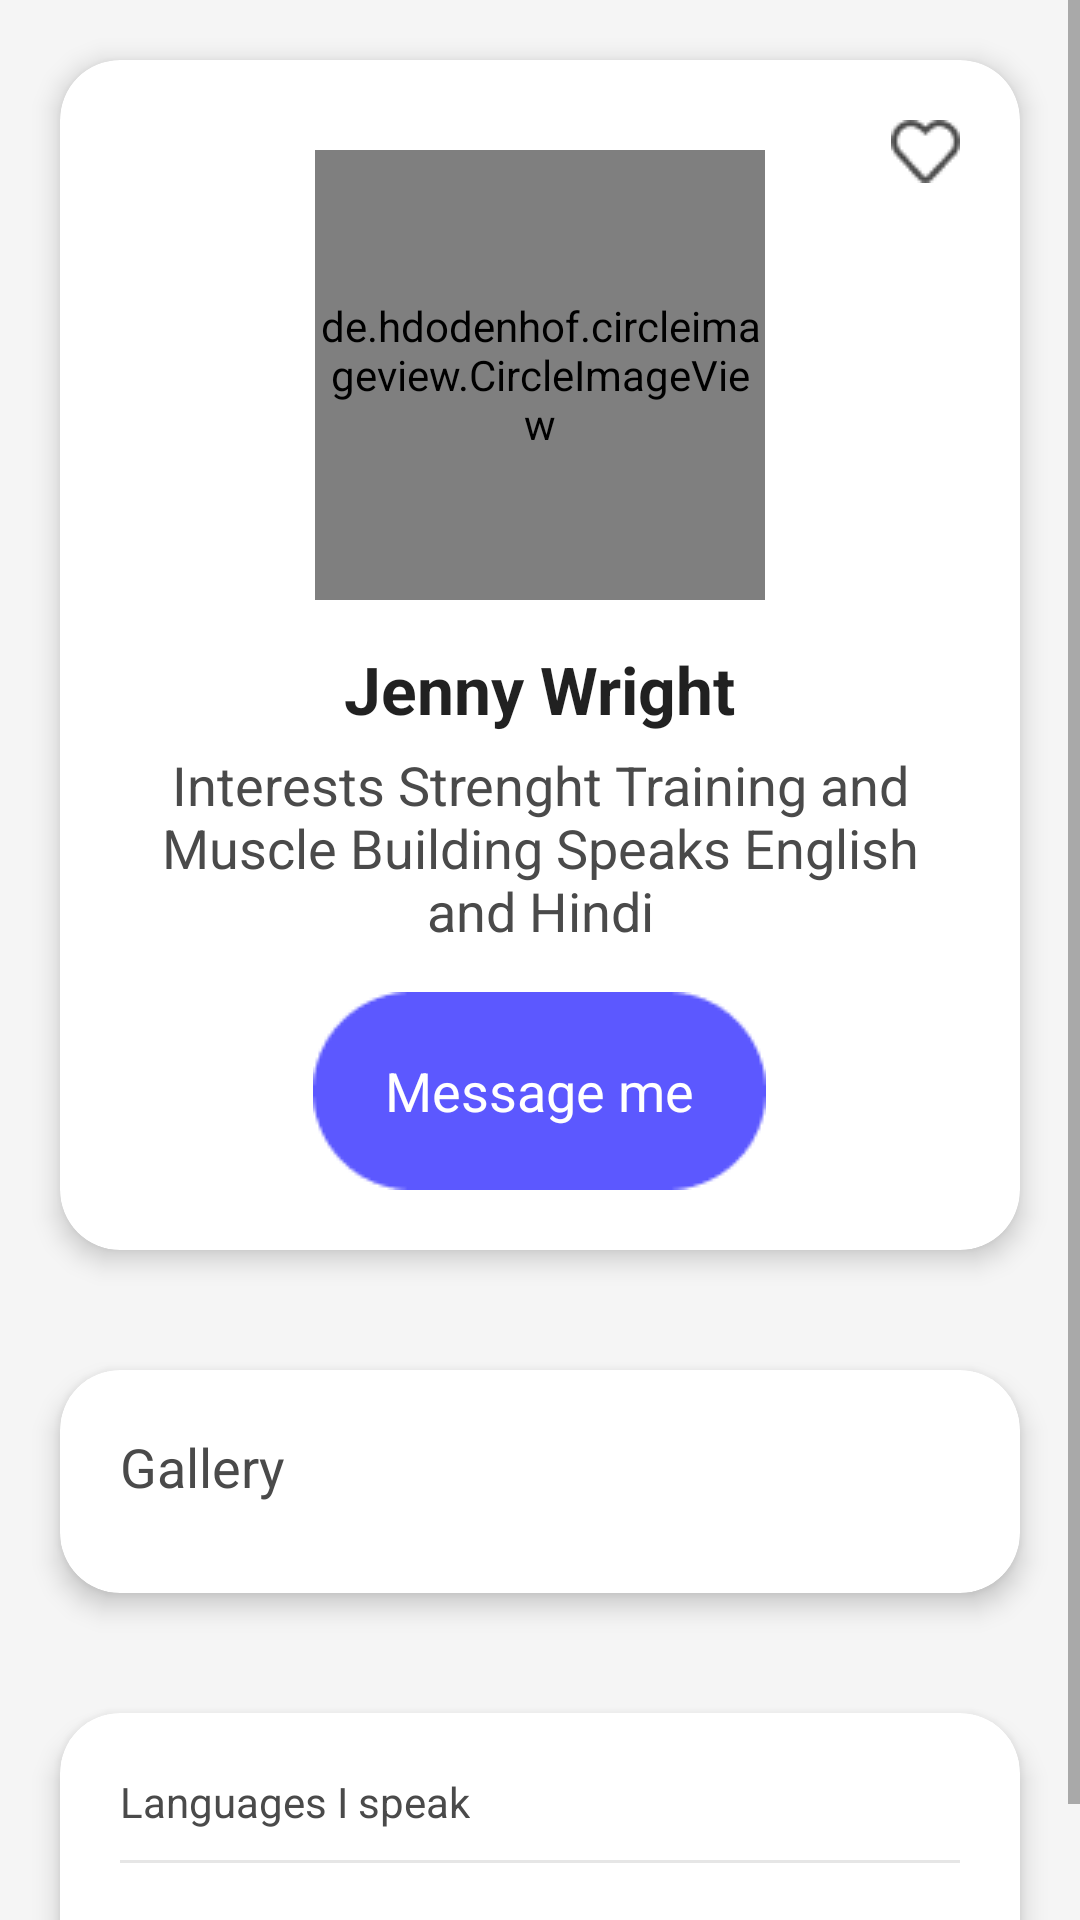

Named icons in this screenshot (1080px×1920px) and their centers, (x,y):
unselectedfav: (925,151)
